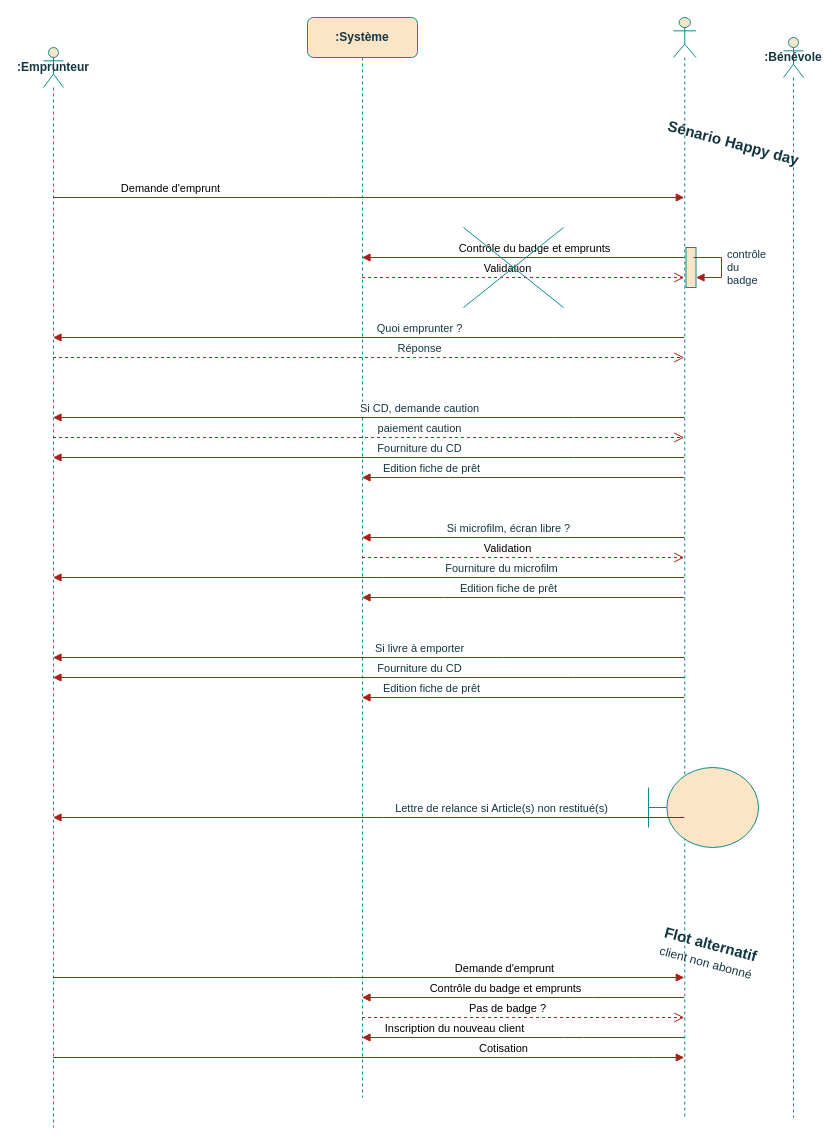
This 839x1145 diagram has some shape labels left out. Each missing label, with the box of its shape:
:Personnel: (672, 16, 696, 1118)
Durée d'emprunt > 4 semaines = relance: (648, 766, 758, 848)
